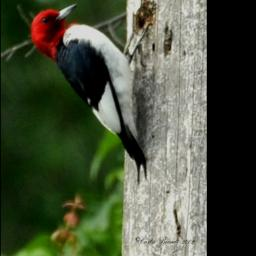Woodpecker: (30, 2, 146, 181)
